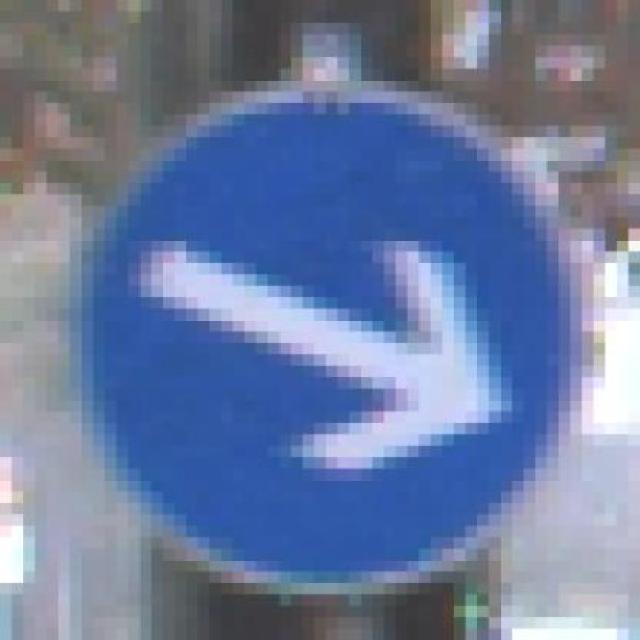Keep-Right: (58, 80, 617, 606)
